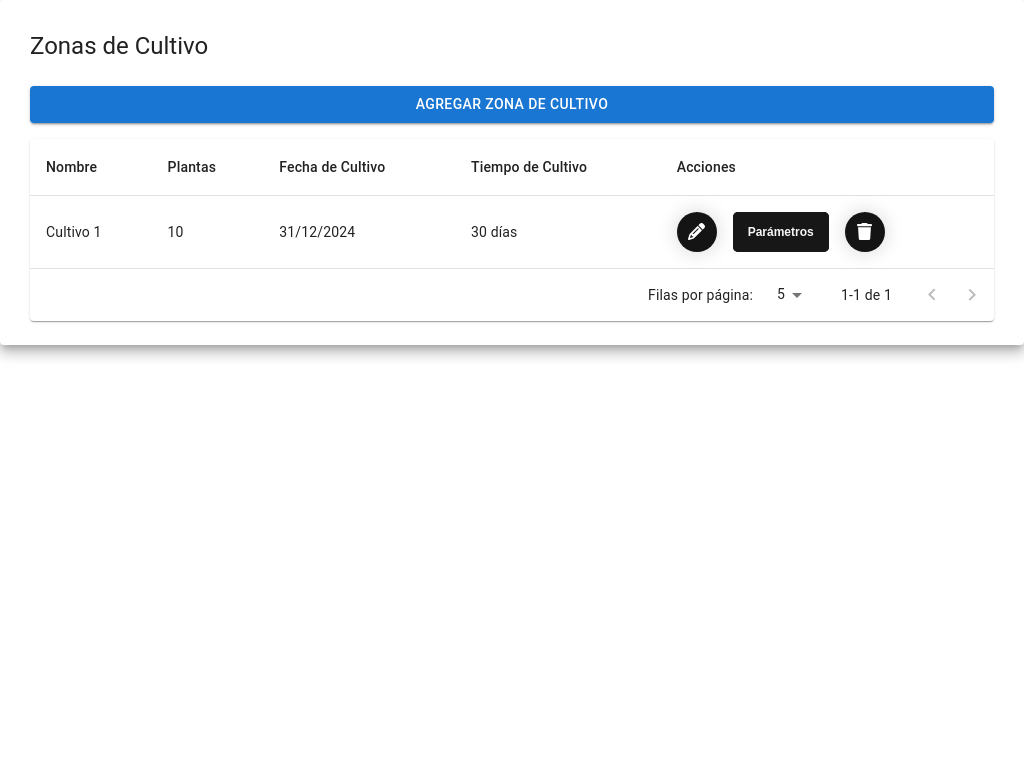
ZonaCultivo Component › muestra errores de validación si se guarda sin completar datos
Click the button "Agregar Zona de Cultivo". click: (512, 104)
box: [30,86,994,122]
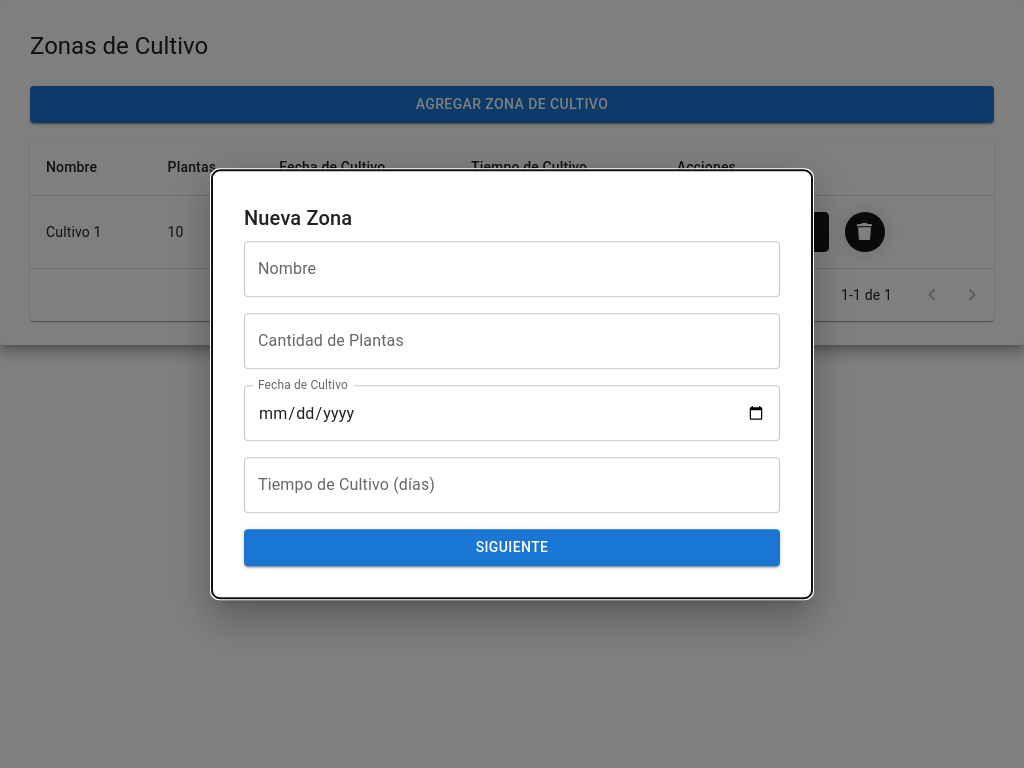
Click the button "Siguiente". click: (512, 548)
box: [244,529,780,566]
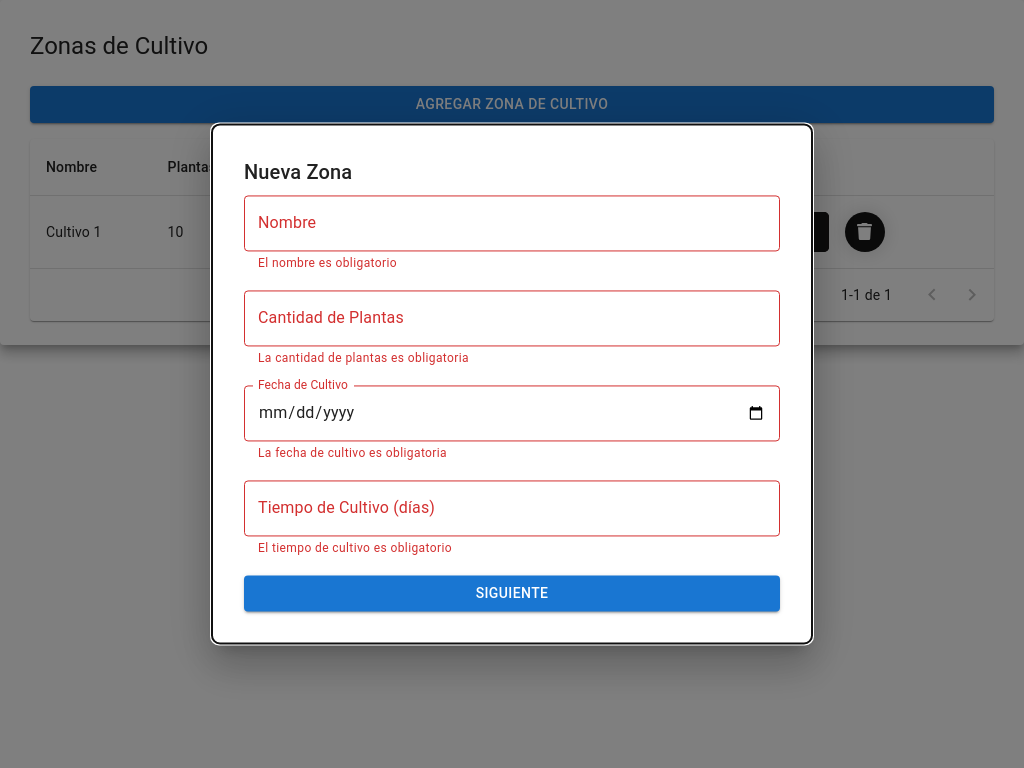
Check: the text "El nombre es obligatorio" is shown, box [258,256,397,270]
